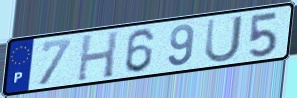5: (246, 9, 282, 59)
6: (123, 26, 156, 75)
7: (40, 36, 74, 87)
9: (166, 22, 196, 68)
H: (75, 29, 120, 83)
U: (203, 13, 245, 65)
